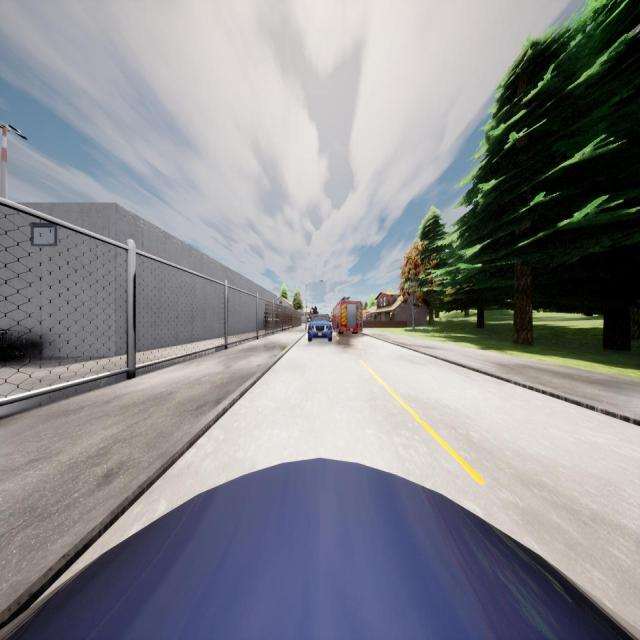Vehicle: (0, 458, 640, 640), (334, 297, 363, 333), (308, 314, 332, 341)
